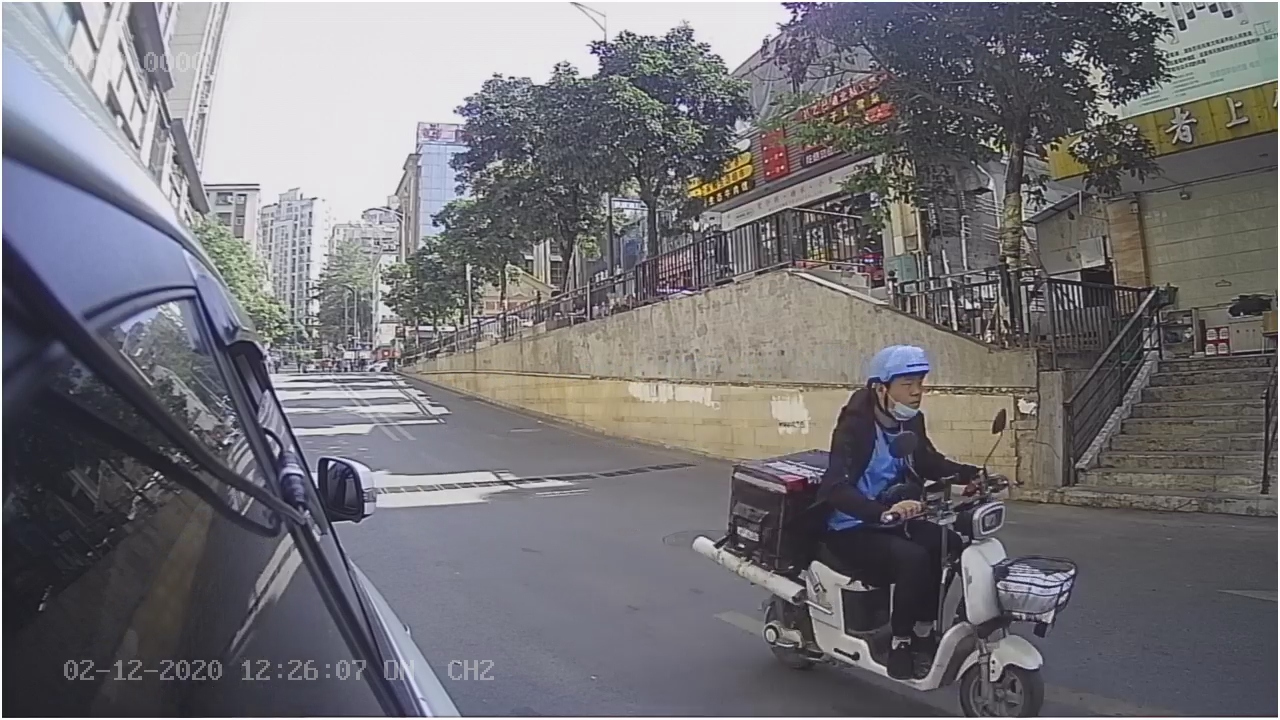person: (828, 329, 962, 518)
